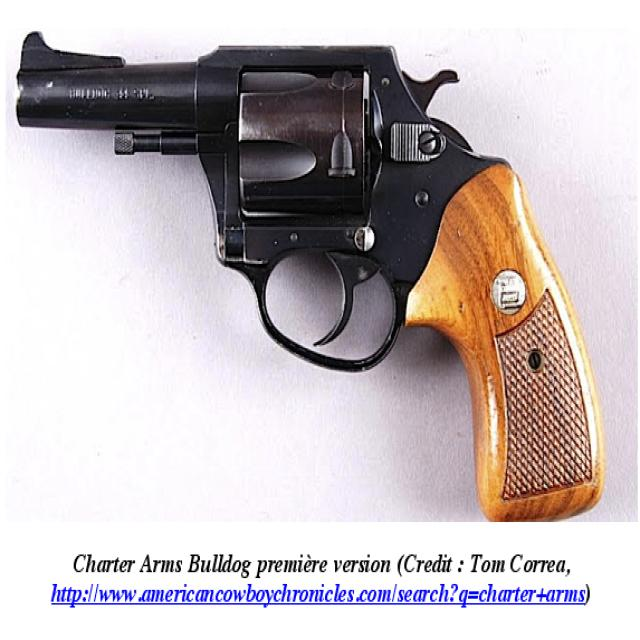Gun: (5, 13, 640, 564)
